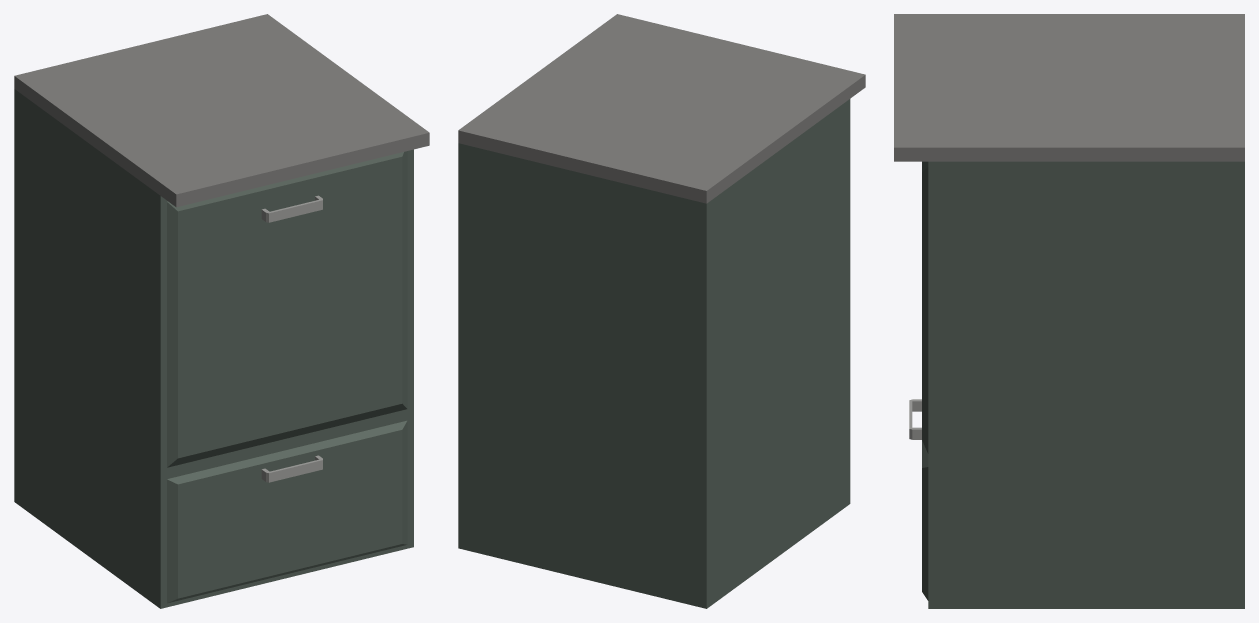
File: Kitchen_2Drawers.glb
3 views of the same model, side by side, from view 1: azimuth 30°, elevation 25°; view 2: azimuth 150°, elevation 25°; view 3: azimuth 270°, elevation 25° (orthographic). The views are drawn at different scales.
Visible parts, largest first — view 1: Kitchen_2Drawers; view 2: Kitchen_2Drawers; view 3: Kitchen_2Drawers.
Part boxes in pixels (x1,y1,x2,y2): Kitchen_2Drawers: (14,14,429,608); Kitchen_2Drawers: (458,14,865,608); Kitchen_2Drawers: (894,14,1244,608).
Size of the model in its own units: 0.4943 by 0.7944 by 0.5479.
Materials: 3 (3 with a texture image).
